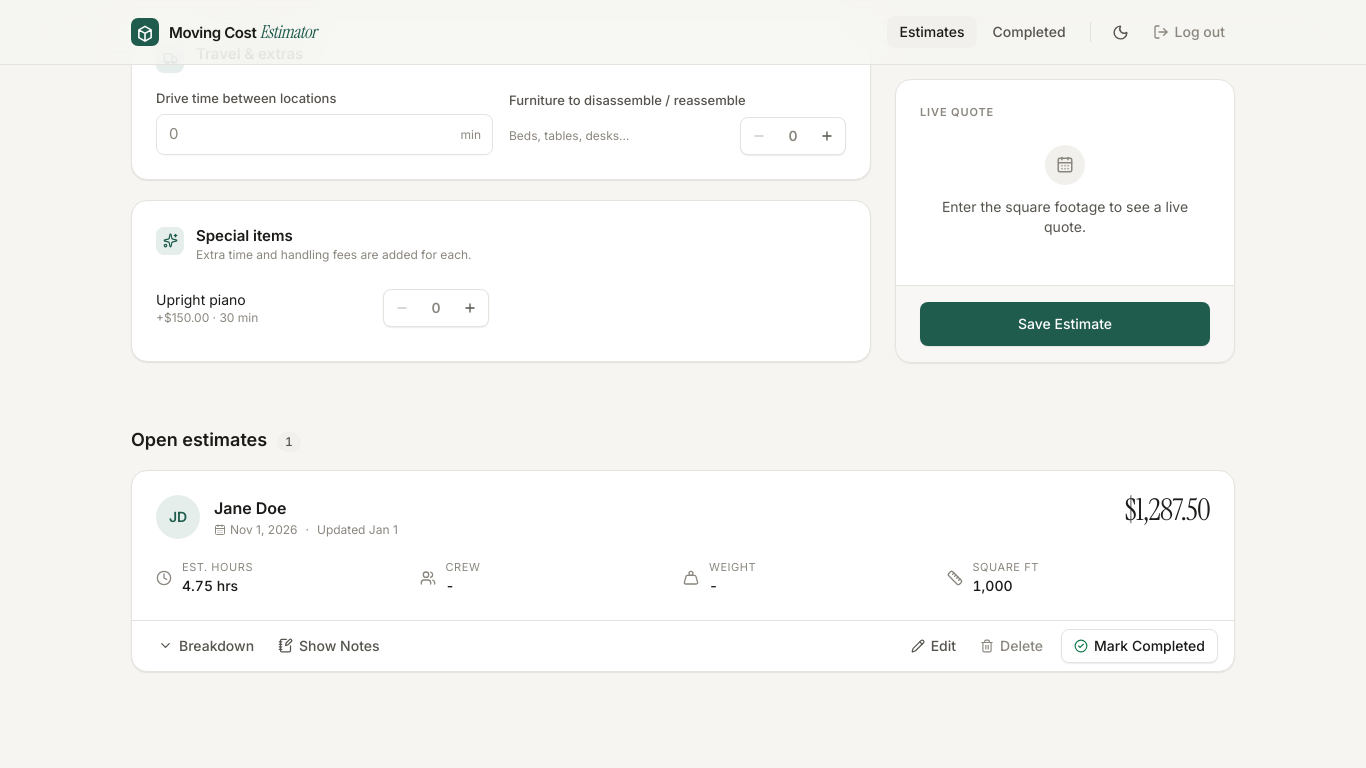
Estimate page › explains that legacy estimates have no breakdown
(page scrolled)
Check: the heading "Jane Doe" is shown, box [214,498,286,518]
Click the button "Breakdown": (206, 646) [148,630,264,662]
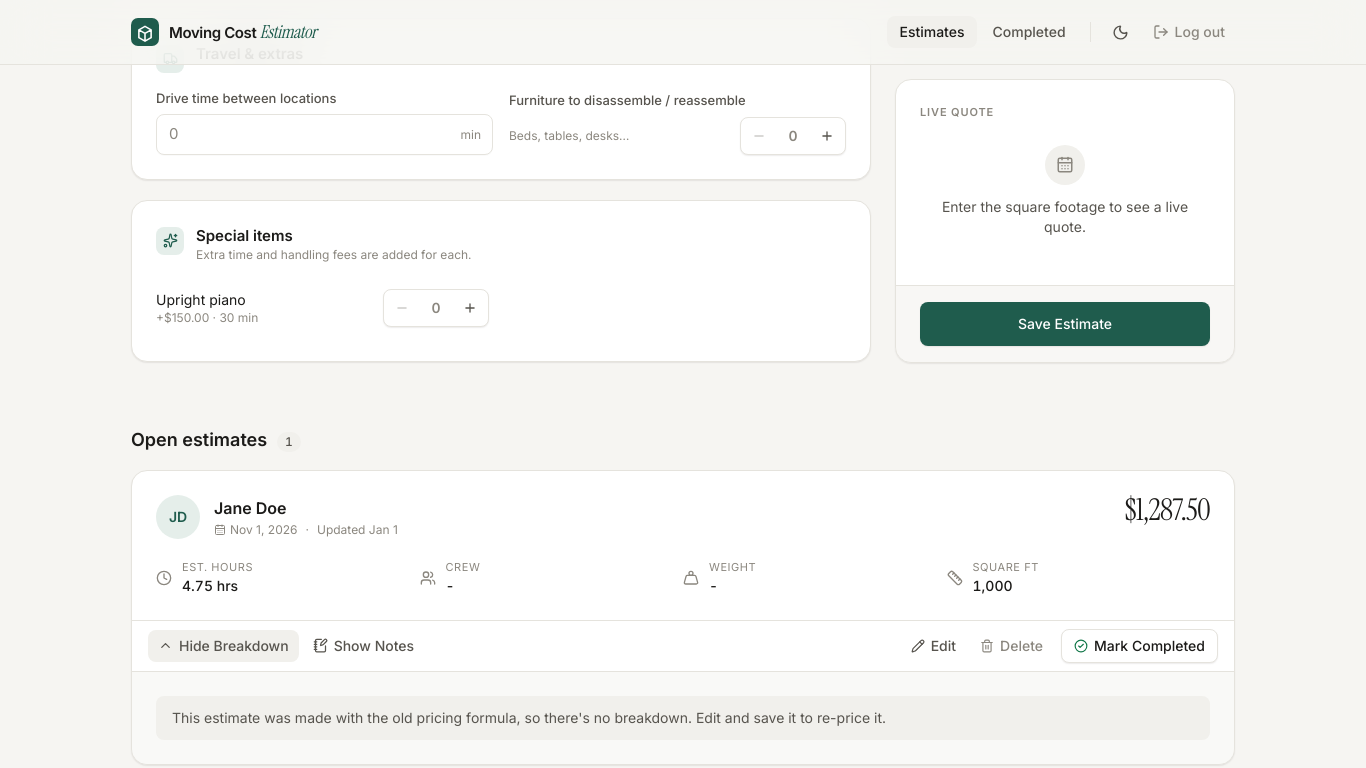
Check: the text "old pricing formula" is shown, box [172,709,886,726]
